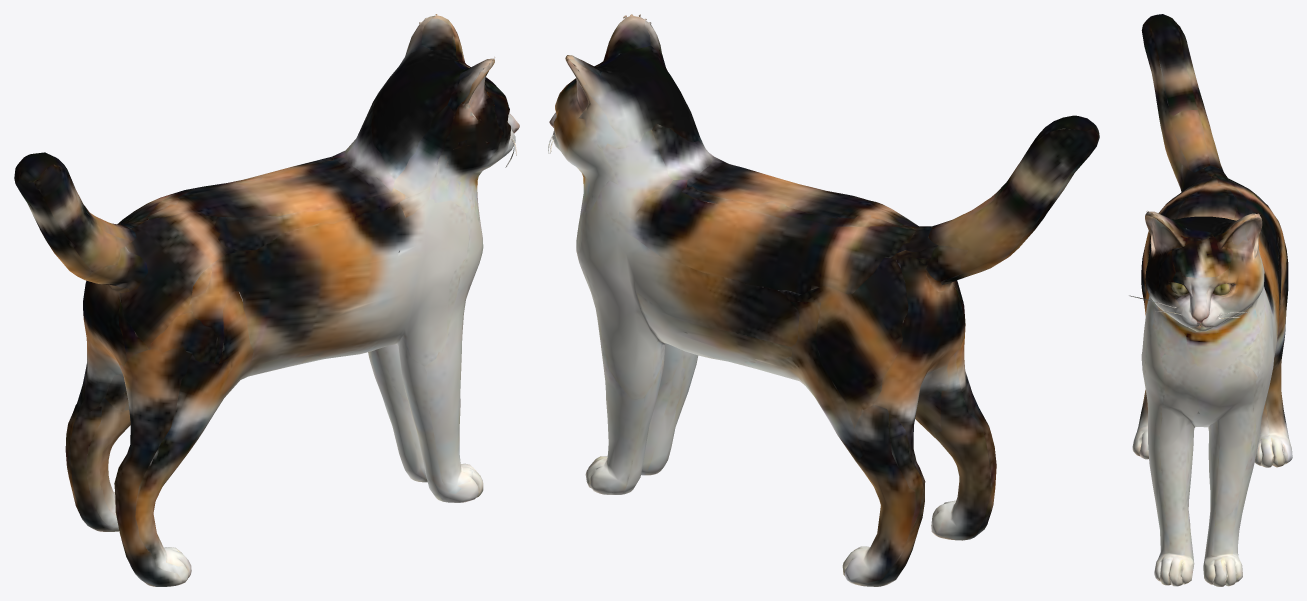
File: DELILAHCAT-lo.glb
3 views of the same model, side by side, from view 1: azimuth 30°, elevation 25°; view 2: azimuth 150°, elevation 25°; view 3: azimuth 270°, elevation 25° (orthographic). The views are drawn at different scales.
Parts seen in each view (by area): view 1: fit; view 2: fit; view 3: fit.
Boxes of the visible parts, x1=… form: fit: x1=14, y1=14, x2=519, y2=586; fit: x1=548, y1=14, x2=1099, y2=586; fit: x1=1129, y1=14, x2=1292, y2=586.
Size of the model in its own units: 1.21 by 0.9989 by 0.3856.
1 material, 1 textured.
